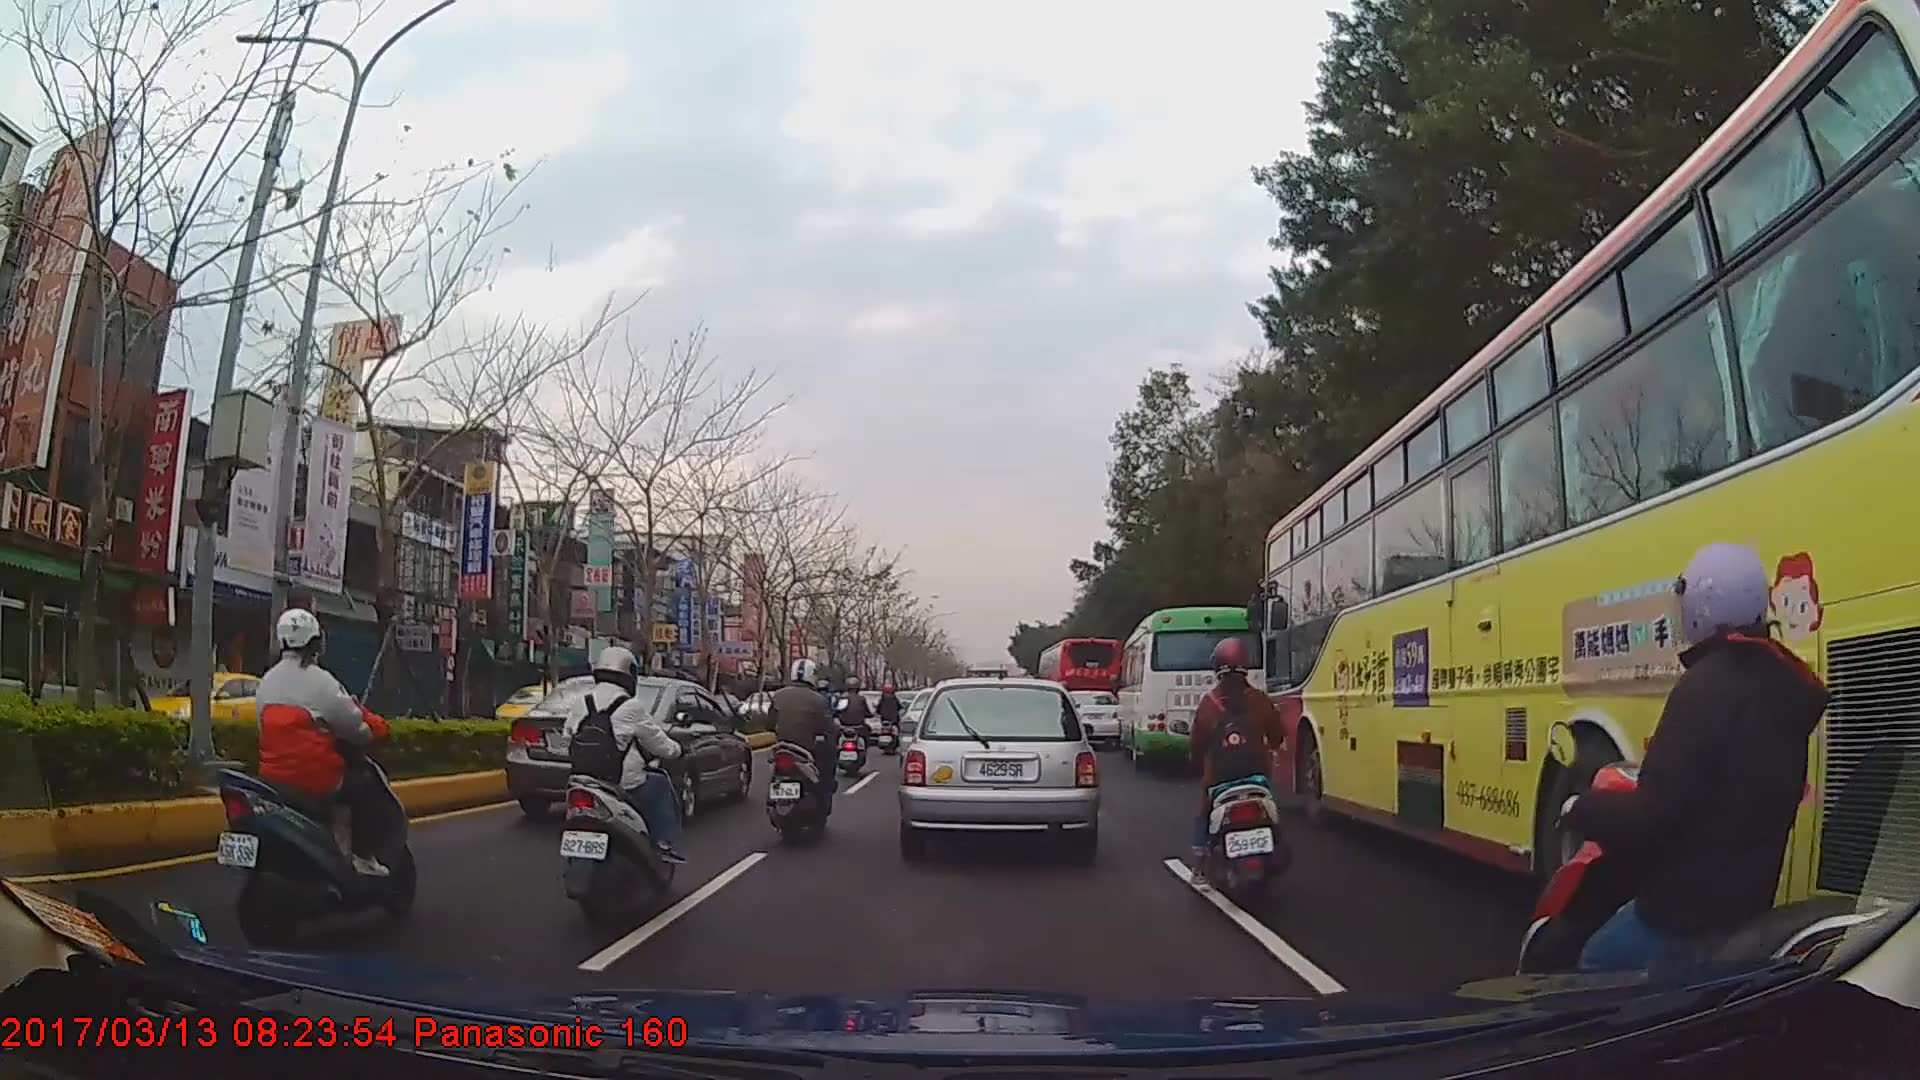rider: (1522, 542, 1907, 1051), (217, 602, 418, 951), (556, 640, 682, 936), (1168, 635, 1289, 908), (757, 657, 839, 846), (836, 677, 875, 776), (877, 682, 904, 755)
vehicle: (1260, 0, 1919, 951), (502, 671, 751, 821), (898, 674, 1099, 856), (1115, 604, 1265, 771), (130, 660, 300, 744), (1038, 634, 1123, 739)
